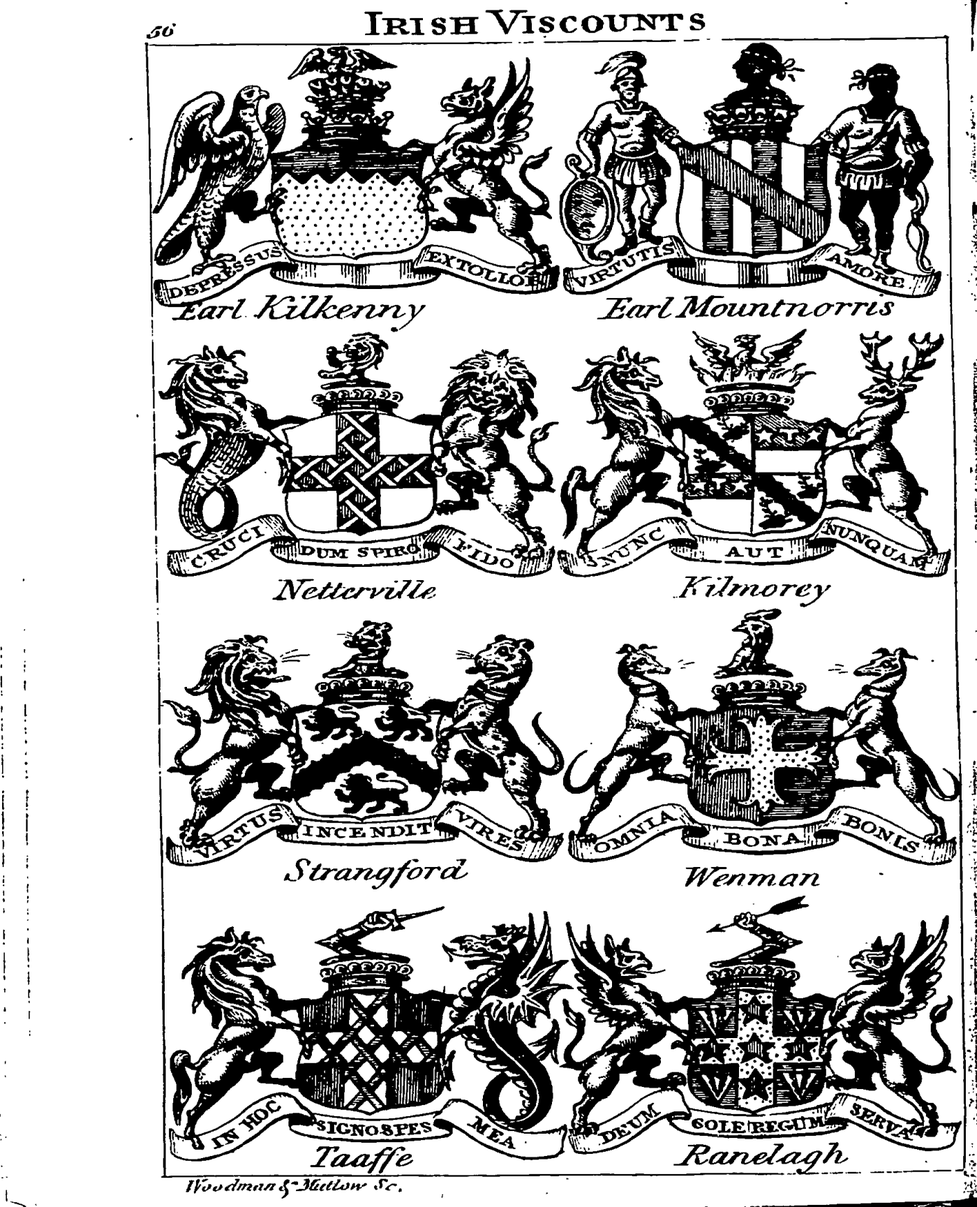coat_of_arms: (157, 47, 559, 338), (168, 602, 569, 887), (568, 604, 955, 892), (571, 890, 967, 1171), (174, 889, 570, 1162), (161, 340, 556, 603), (563, 335, 952, 602), (562, 50, 935, 327)
